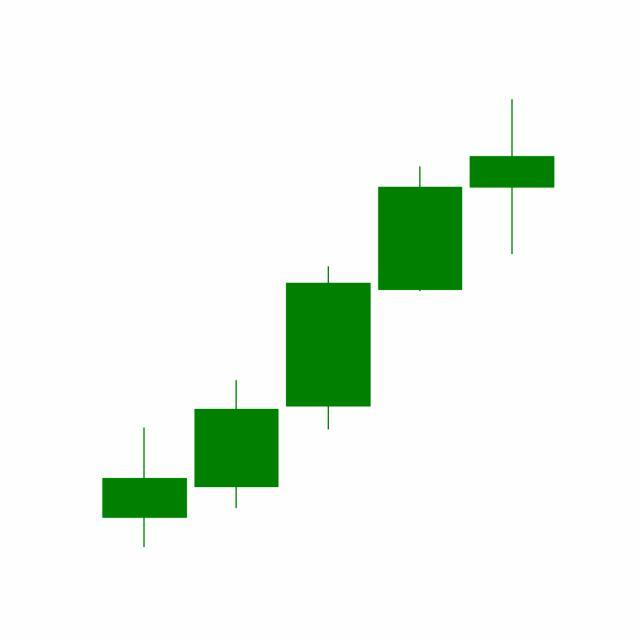Advance Block: (280, 99, 555, 435)
